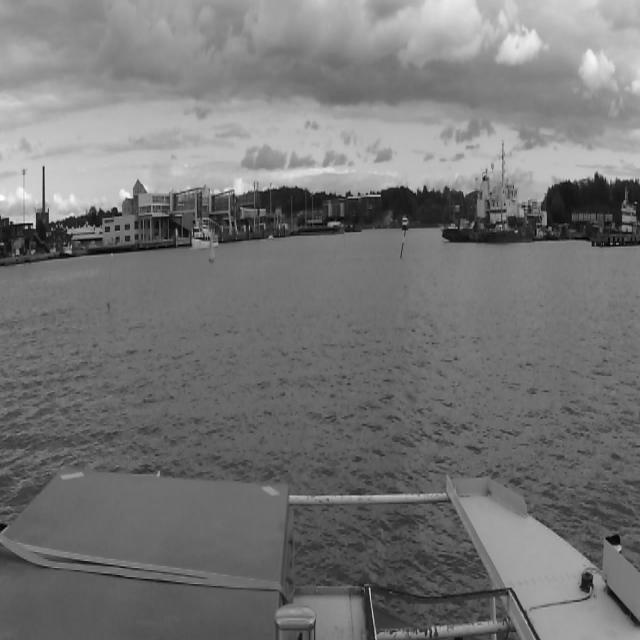buoy: (106, 252, 110, 310), (209, 230, 214, 262)
ship: (442, 140, 534, 242), (190, 221, 206, 248), (402, 218, 408, 230)
